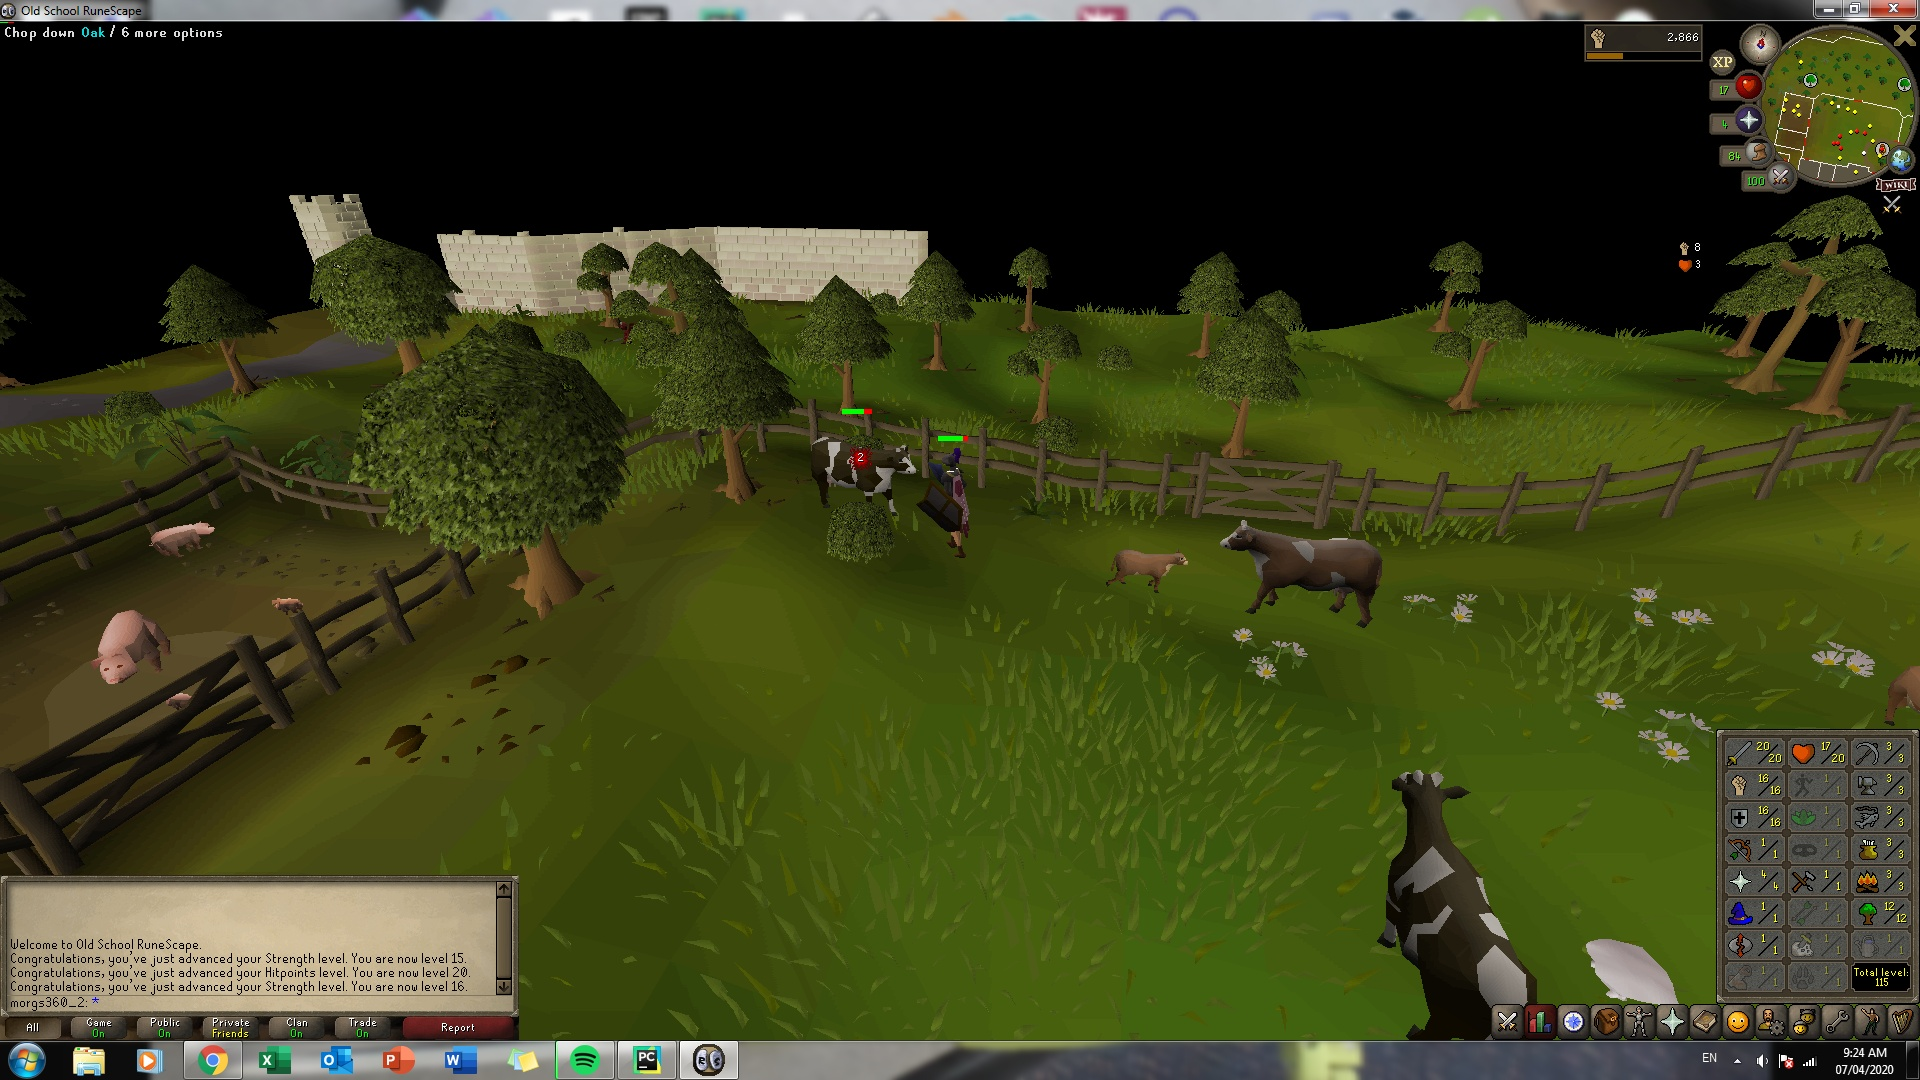cow: (1371, 767, 1545, 1036), (1221, 517, 1393, 633), (806, 438, 924, 527)
